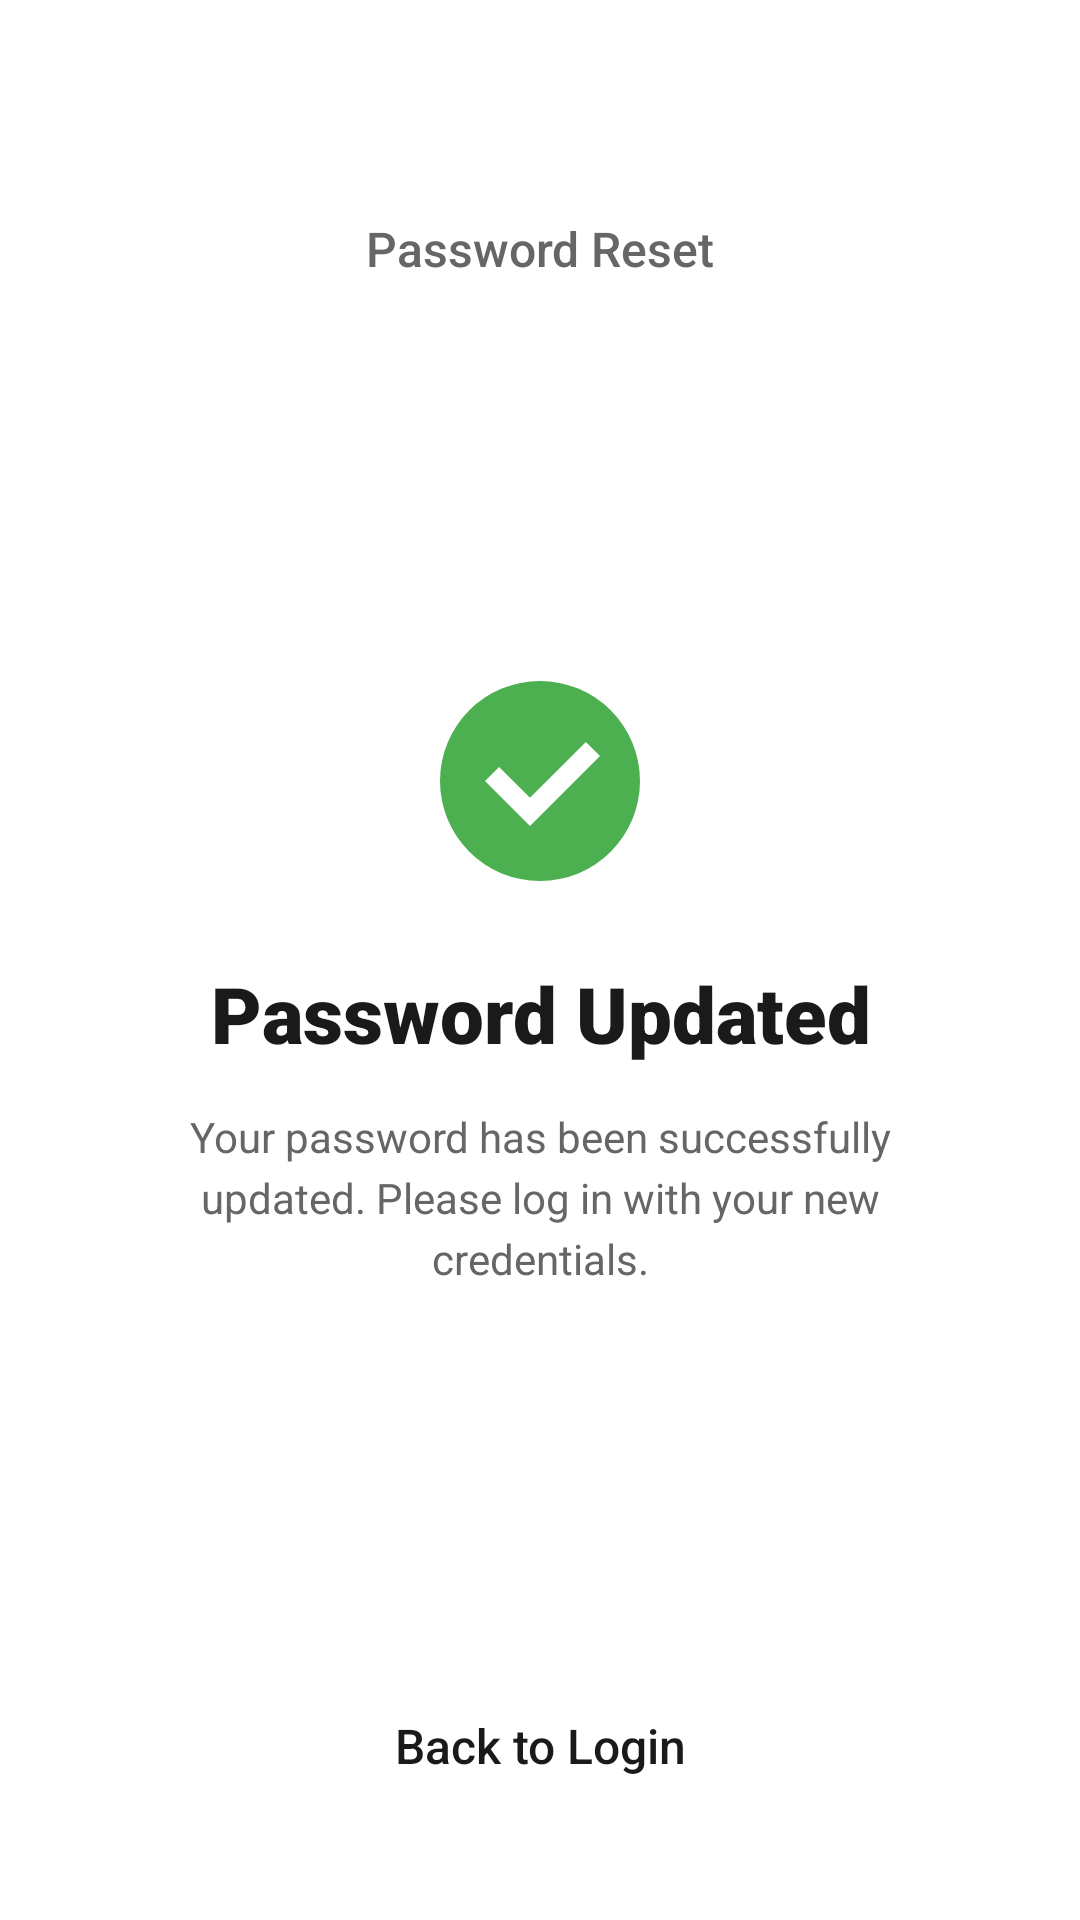

Locate icon controls on the screen. Image size 1080 × 1920, boxes as [left=x1, top=y1, right=x2, bottom=y2].
Success icon: [left=440, top=681, right=640, bottom=881]
